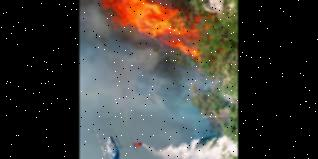fire: (85, 0, 220, 63)
